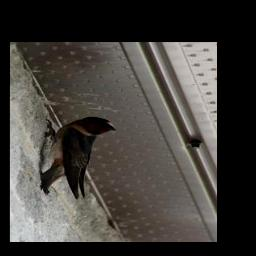Swallow: (36, 116, 116, 199)
